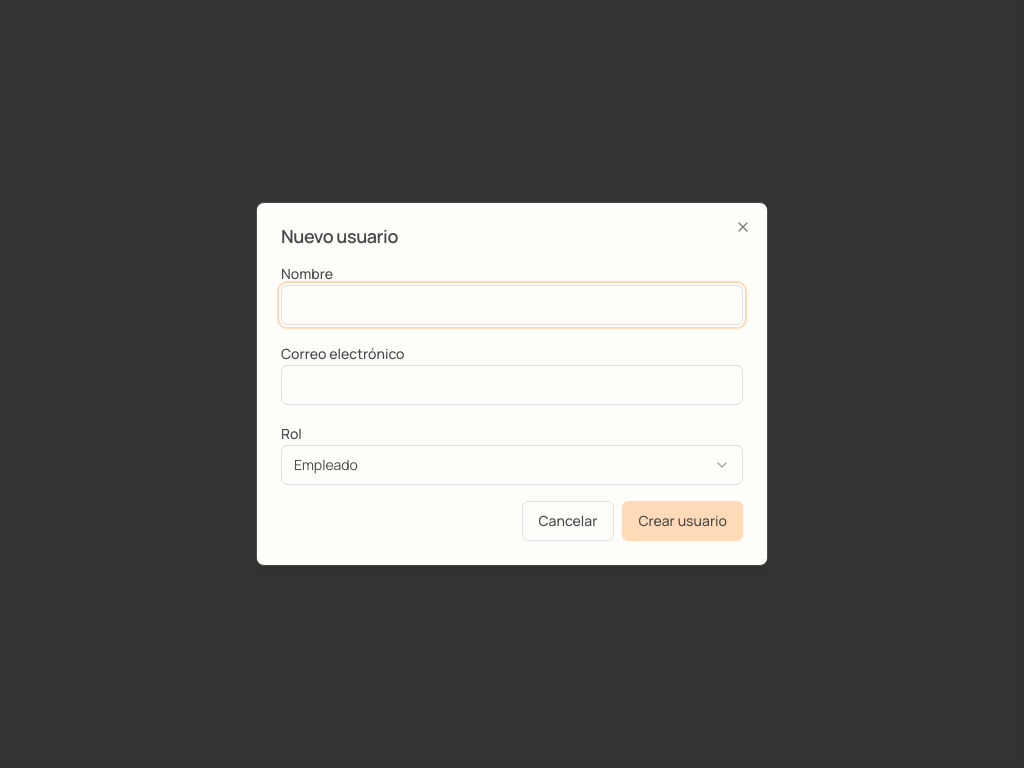
Test: UserFormDialog: modo crear › muestra error al enviar un correo inválido
Step 1. Type "Test User" into the field labelled "Nombre" → point(512, 305), box [281,285,743,325]
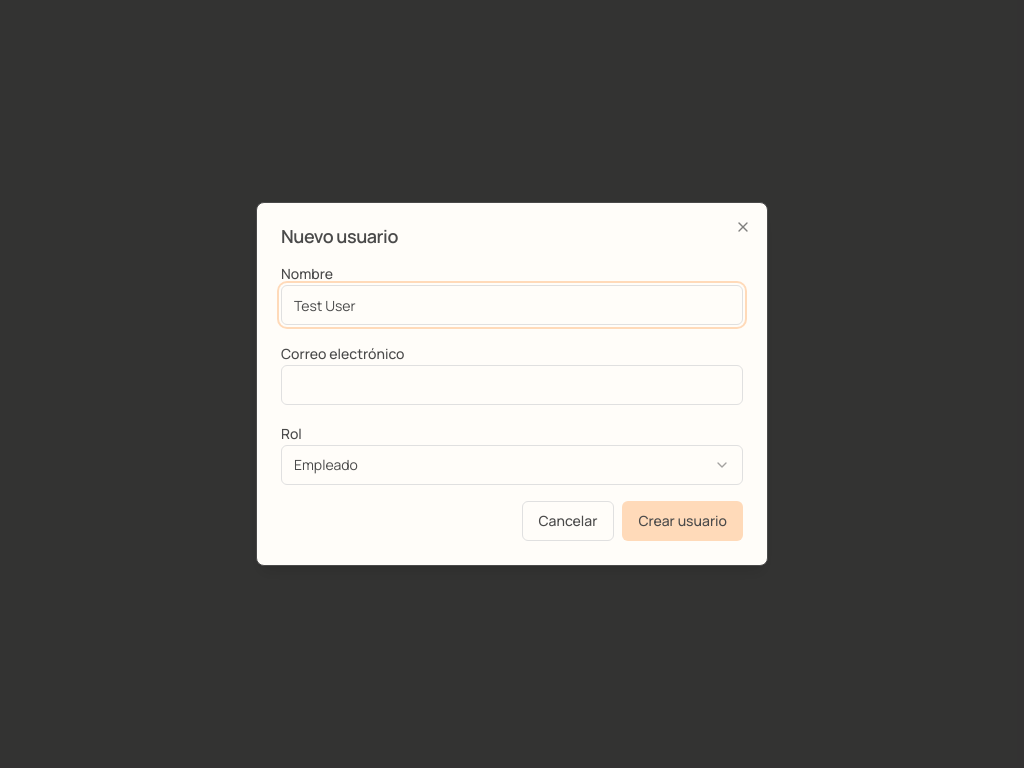
Step 2. Type "not-an-email" into the field labelled "Correo electrónico" → point(512, 385), box [281,365,743,405]
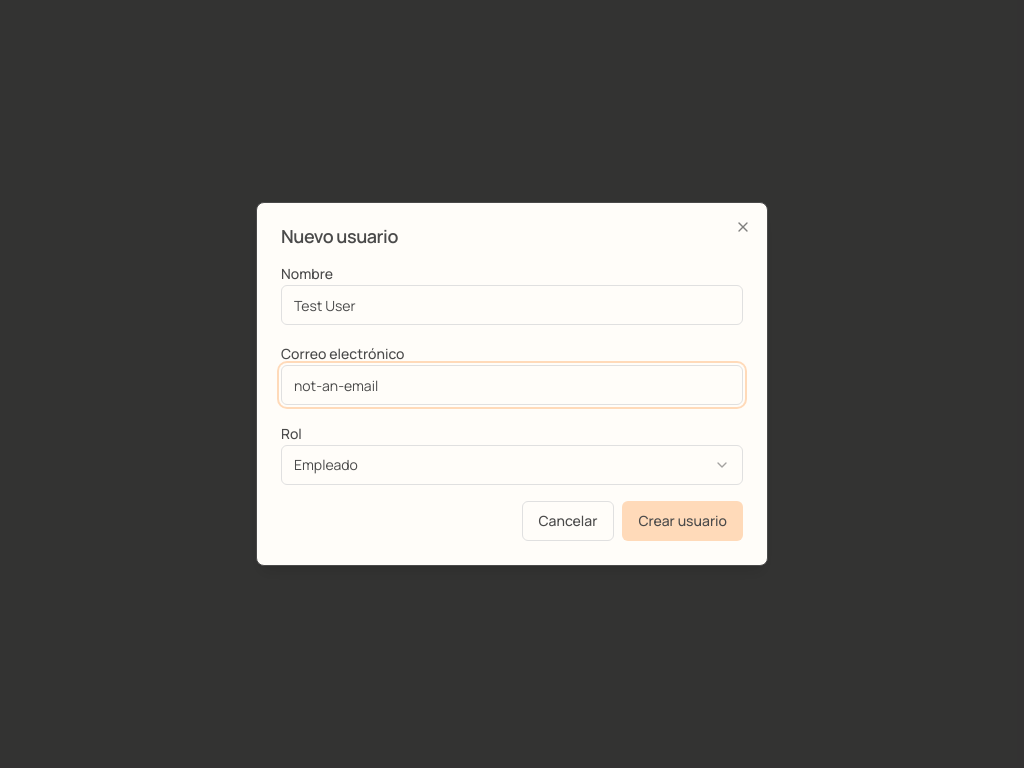
Step 3. Click the button "Crear usuario" → point(683, 521), box [622,501,743,541]
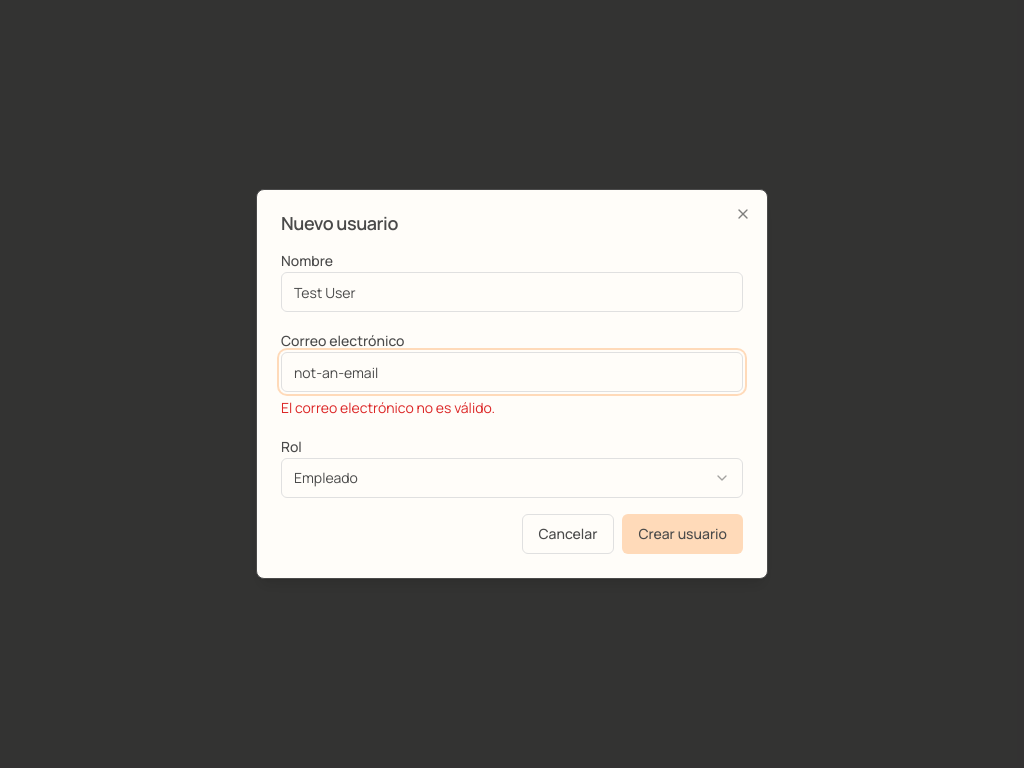
expect the message "El correo electrónico no es válido." is shown: met, box [281,398,495,417]
